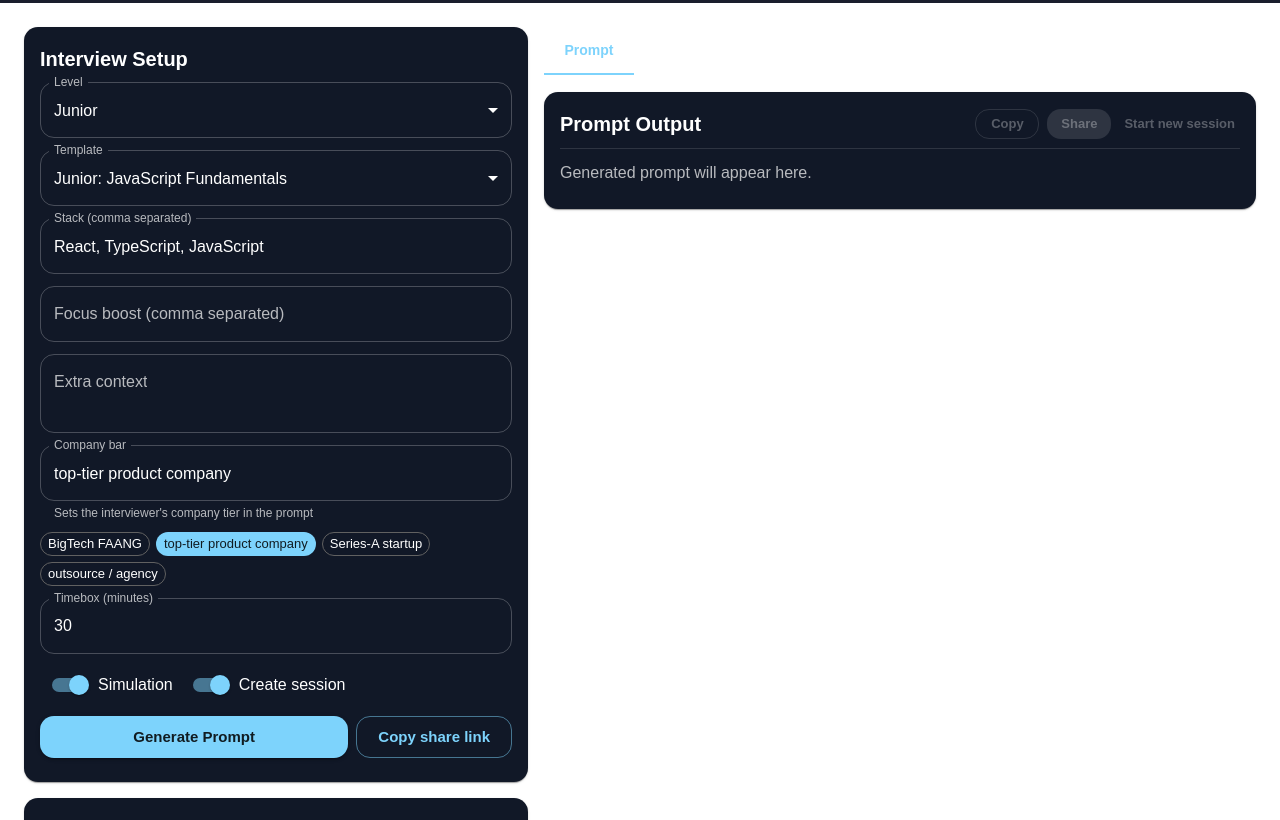
Test case: App › renders the topic heatmap with rows for active tags
The image size is (1280, 820).
Click the tab "Charts" at (679, 51), box [634,27,724,75]
(page scrolled)
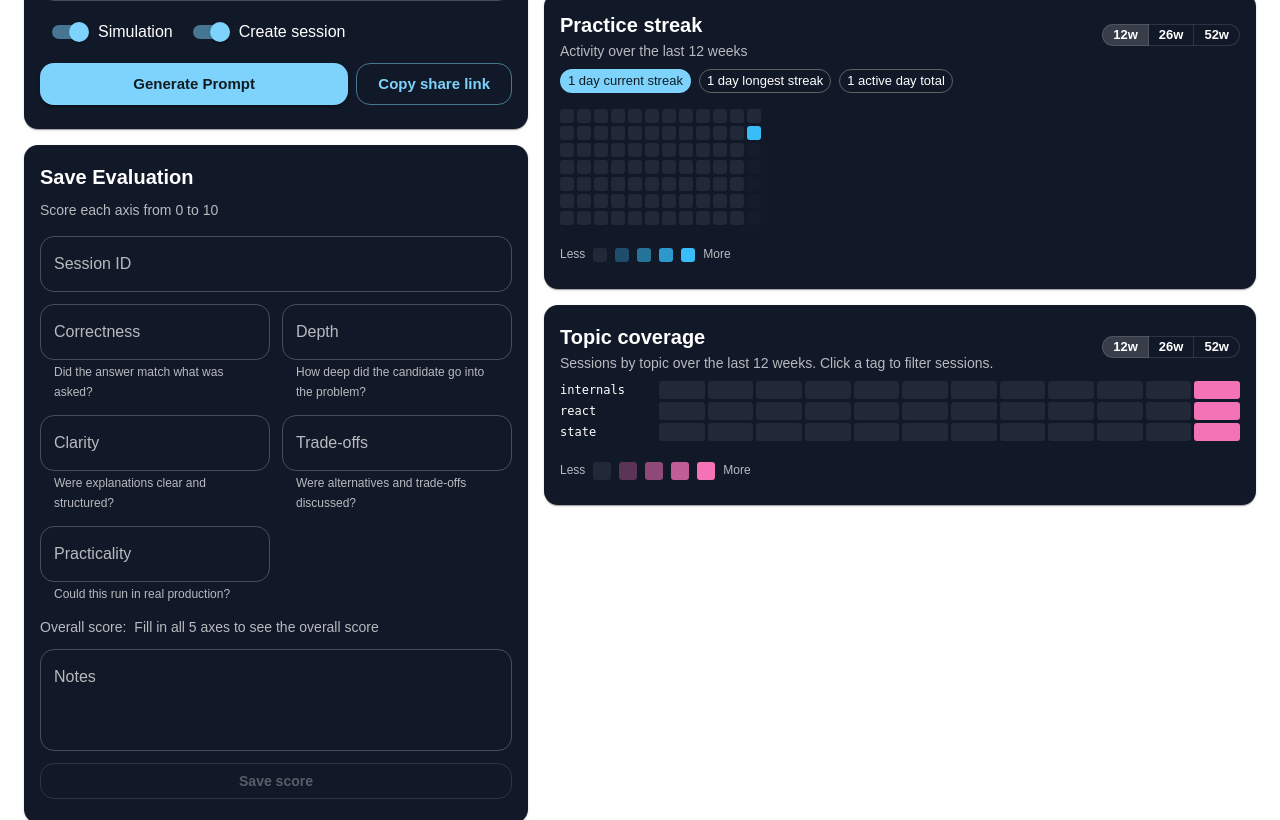
expect the heading "Topic coverage" is shown: met, box [560,326,705,348]
expect the button "react" is shown: met, box [560,404,656,418]
expect the button "internals" is shown: met, box [560,383,656,397]
